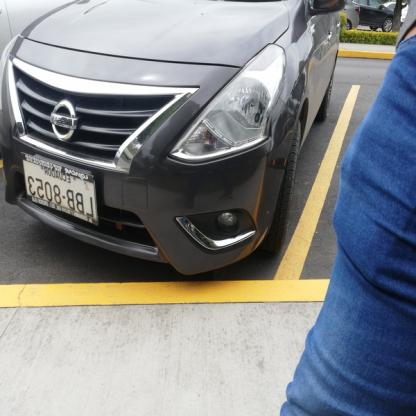Placa: (18, 151, 106, 232)
